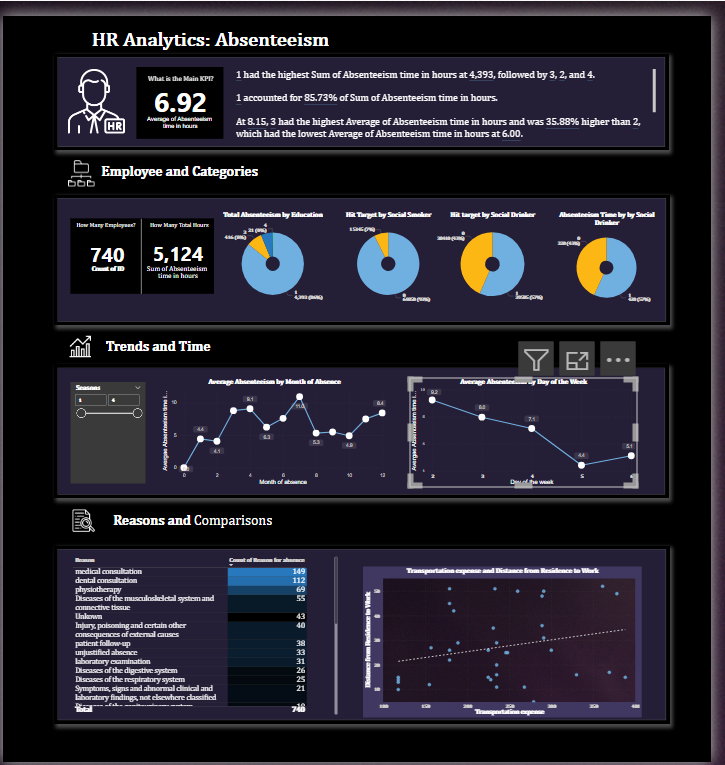

What the dashboard file says about the page in this screenshot:
{"tool":"powerbi","page":{"name":"Absenteeism At Work","canvas":[1890,1990],"ordinal":0},"visuals":[{"type":"shape","box":[137.2,101.5,1638.9,257.5],"z":0},{"type":"shape","box":[135.8,475.1,1641.4,348.6],"z":1000},{"type":"shape","box":[135.8,1413.1,1641.4,475.1],"z":2000},{"type":"shape","box":[135.3,926.6,1638.9,357.1],"z":3000},{"type":"card","fields":{"Values":["Sum(Absenteeism_at_work.Absenteeism time in hours)"]},"box":[367.1,539.9,194.4,200.5],"z":4000},{"type":"donutChart","title":"Hit Target by Social Smoker","fields":{"Category":["Absenteeism_at_work.Social smoker"],"Y":["Sum(Absenteeism_at_work.Hit target)"]},"box":[870,520,310,262],"z":5000},{"type":"card","fields":{"Values":["CountNonNull(Absenteeism_at_work.ID)"]},"box":[178.9,539.9,194.4,200.5],"z":6000},{"type":"lineChart","title":"Average Absenteeism by Month of Absence","fields":{"Category":["Absenteeism_at_work.Month of absence"],"Y":["DAX Measures.Avergae Absenteeism time in hours"]},"box":[418,963.4,606,292.3],"z":7000},{"type":"shape","box":[351.3,539.2,33.8,201.1],"z":8000},{"type":"donutChart","title":"Total Absenteeism by Education","fields":{"Category":["Absenteeism_at_work.Education"],"Y":["Sum(Absenteeism_at_work.Absenteeism time in hours)"]},"box":[562,518,310,262],"z":9000},{"type":"donutChart","title":"Hit target by Social Drinker","fields":{"Category":["Absenteeism_at_work.Social drinker"],"Y":["Sum(Absenteeism_at_work.Hit target)"]},"box":[1140,518,330,264],"z":10000},{"type":"donutChart","title":"Absenteeism Time by by Social Drinker","fields":{"Category":["Absenteeism_at_work.Social drinker"],"Y":["DAX Measures.#Absenteeism_time_in_hours"]},"box":[1444,518,330,264],"z":11000},{"type":"lineChart","title":"Average Absenteeism by Day of the Week","fields":{"Category":["Absenteeism_at_work.Day of the week"],"Y":["DAX Measures.Avergae Absenteeism time in hours"]},"box":[1085.1,962.4,606.1,292],"z":12000},{"type":"tableEx","fields":{"Values":["Absenteeism_at_work.Reason","CountNonNull(Absenteeism_at_work.Reason for absence)"]},"box":[179.1,1436.4,718,432.3],"z":13000},{"type":"card","fields":{"Values":["Avg(Absenteeism_at_work.Absenteeism time in hours)"]},"box":[357.9,135.8,231.4,191.3],"z":14000},{"type":"textbox","box":[614.6,137.2,1129.6,201.1],"z":15000},{"type":"scatterChart","fields":{"X":["Absenteeism_at_work.Transportation expense"],"Y":["Absenteeism_at_work.Distance from Residence to Work"]},"box":[958.2,1467.4,743,402.9],"z":16000},{"type":"slicer","fields":{"Values":["Absenteeism_at_work.Seasons"]},"box":[180.3,975,199.8,270.8],"z":17000},{"type":"textbox","box":[171.2,28.7,1413.4,73.3],"z":18000},{"type":"image","box":[120.3,135.8,259.2,182],"z":19000},{"type":"textbox","box":[179.4,544.3,187.9,45.1],"z":20000},{"type":"textbox","box":[374.9,544.3,187.9,45.1],"z":21000},{"type":"textbox","box":[378.9,153.4,187.9,45.1],"z":22000},{"type":"image","box":[167.3,374,80.8,86.5],"z":23000},{"type":"textbox","box":[241.1,390,1414,71.4],"z":24000},{"type":"textbox","box":[289.4,1319.4,1413.4,71.4],"z":25000},{"type":"textbox","box":[266.9,855.2,1413.4,71.4],"z":26000},{"type":"image","box":[172.9,825.1,67.7,114.6],"z":27000},{"type":"image","box":[178.6,1276.2,69.5,139.1],"z":28000}]}

Visuals, with their boxes in screenshot pixels (x1, y1, x2, y2), scaled from the page's 1890x1990 canvas onto the 725x765 screenshot:
shape: BBox(53, 39, 681, 138)
shape: BBox(52, 183, 682, 317)
shape: BBox(52, 543, 682, 726)
shape: BBox(52, 356, 681, 493)
card - Sum(Absenteeism_at_work.Absenteeism time in hours): BBox(141, 208, 215, 285)
"Hit Target by Social Smoker" donutChart: BBox(334, 200, 453, 301)
card - CountNonNull(Absenteeism_at_work.ID): BBox(69, 208, 143, 285)
"Average Absenteeism by Month of Absence" lineChart: BBox(160, 370, 393, 483)
shape: BBox(135, 207, 148, 285)
"Total Absenteeism by Education" donutChart: BBox(216, 199, 334, 300)
"Hit target by Social Drinker" donutChart: BBox(437, 199, 564, 301)
"Absenteeism Time by by Social Drinker" donutChart: BBox(554, 199, 681, 301)
"Average Absenteeism by Day of the Week" lineChart: BBox(416, 370, 649, 482)
tableEx - Absenteeism_at_work.Reason x CountNonNull(Absenteeism_at_work.Reason for absence): BBox(69, 552, 344, 718)
card - Avg(Absenteeism_at_work.Absenteeism time in hours): BBox(137, 52, 226, 126)
textbox: BBox(236, 53, 669, 130)
scatterChart - Absenteeism_at_work.Transportation expense x Absenteeism_at_work.Distance from Residence to Work: BBox(368, 564, 653, 719)
slicer - Absenteeism_at_work.Seasons: BBox(69, 375, 146, 479)
textbox: BBox(66, 11, 608, 39)
image: BBox(46, 52, 146, 122)
textbox: BBox(69, 209, 141, 227)
textbox: BBox(144, 209, 216, 227)
textbox: BBox(145, 59, 217, 76)
image: BBox(64, 144, 95, 177)
textbox: BBox(92, 150, 635, 177)
textbox: BBox(111, 507, 653, 535)
textbox: BBox(102, 329, 645, 356)
image: BBox(66, 317, 92, 361)
image: BBox(69, 491, 95, 544)
